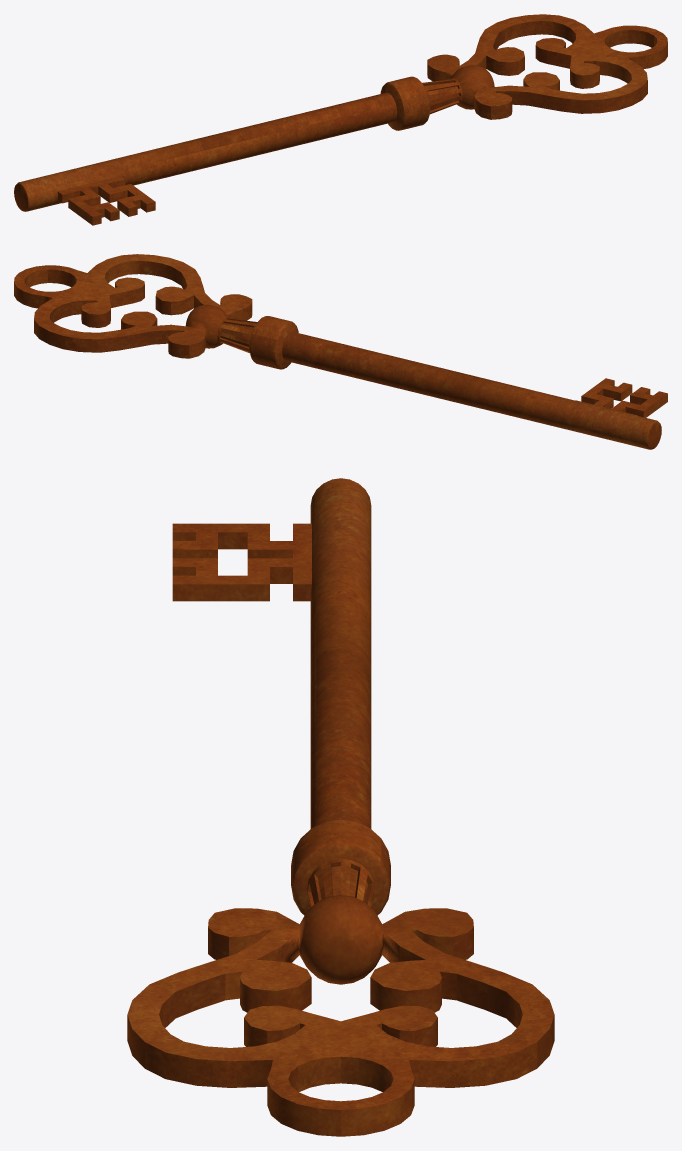
The model's file is specialkey.fbx.
The picture shows the model from 3 angles, top to bottom: view 1: azimuth 30°, elevation 25°; view 2: azimuth 150°, elevation 25°; view 3: azimuth 270°, elevation 25°; orthographic projection. The views are drawn at different scales.
Parts seen in each view (by area): view 1: pCylinder6; view 2: pCylinder6; view 3: pCylinder6.
Part boxes in pixels (bbox=[...]): pCylinder6: bbox=[14, 14, 667, 225]; pCylinder6: bbox=[14, 254, 667, 449]; pCylinder6: bbox=[127, 478, 554, 1136].
Bounding box in the file's own units: 10.64 × 0.7223 × 3.09.
